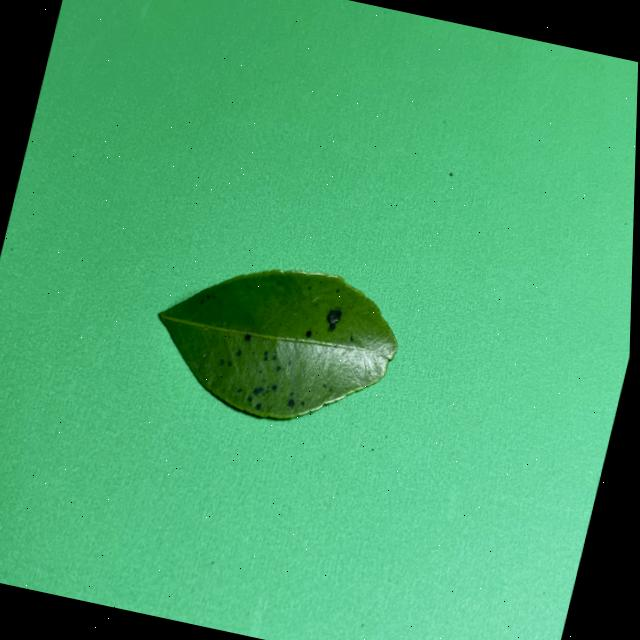sooty_mold: (158, 269, 395, 418)
